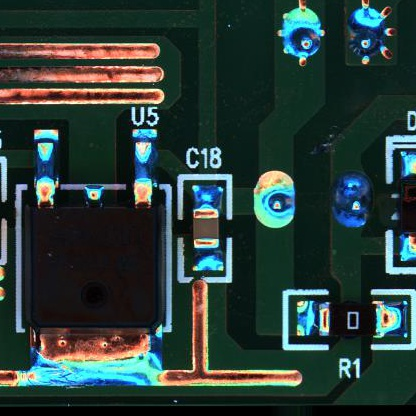spot: (343, 1, 397, 67), (279, 1, 324, 67), (253, 168, 298, 229), (332, 170, 372, 229)
